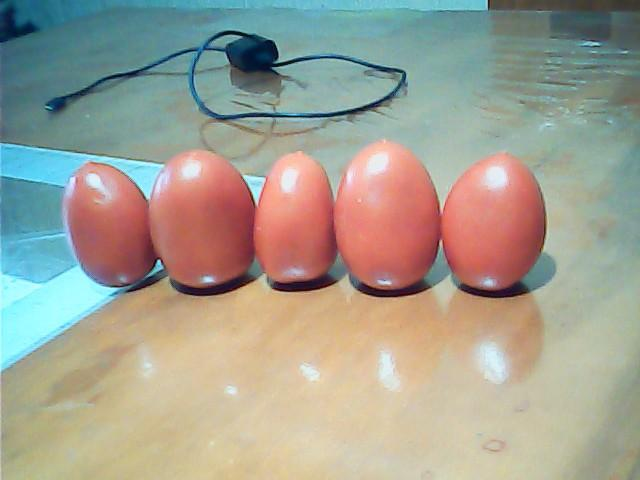maduro: (335, 138, 440, 288), (444, 151, 545, 295), (149, 151, 252, 288), (252, 149, 334, 287), (65, 164, 152, 290)
